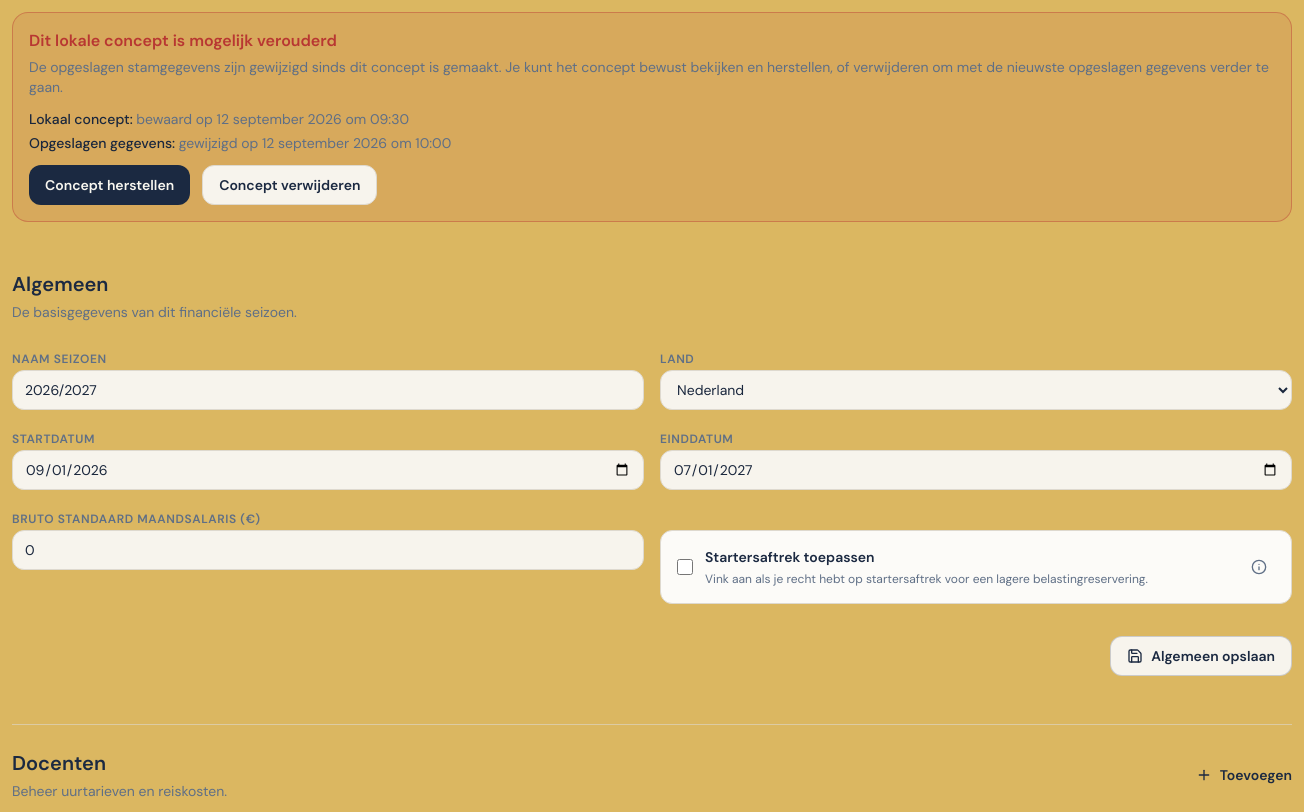
Scenario: SeasonEditor local drafts › warns when the saved season changed after the local draft was created
Expected: the message with test id "season-draft-notice" shows "Dit lokale concept is mogelijk verouderd", top-left (29, 30), bottom-right (337, 51)
Expected: the message with test id "season-draft-notice" shows "De opgeslagen stamgegevens zijn gewijzigd sinds dit concept is gemaakt.", top-left (29, 58), bottom-right (1269, 96)
Click the button "Concept herstellen": (110, 185) top-left (29, 165), bottom-right (190, 205)
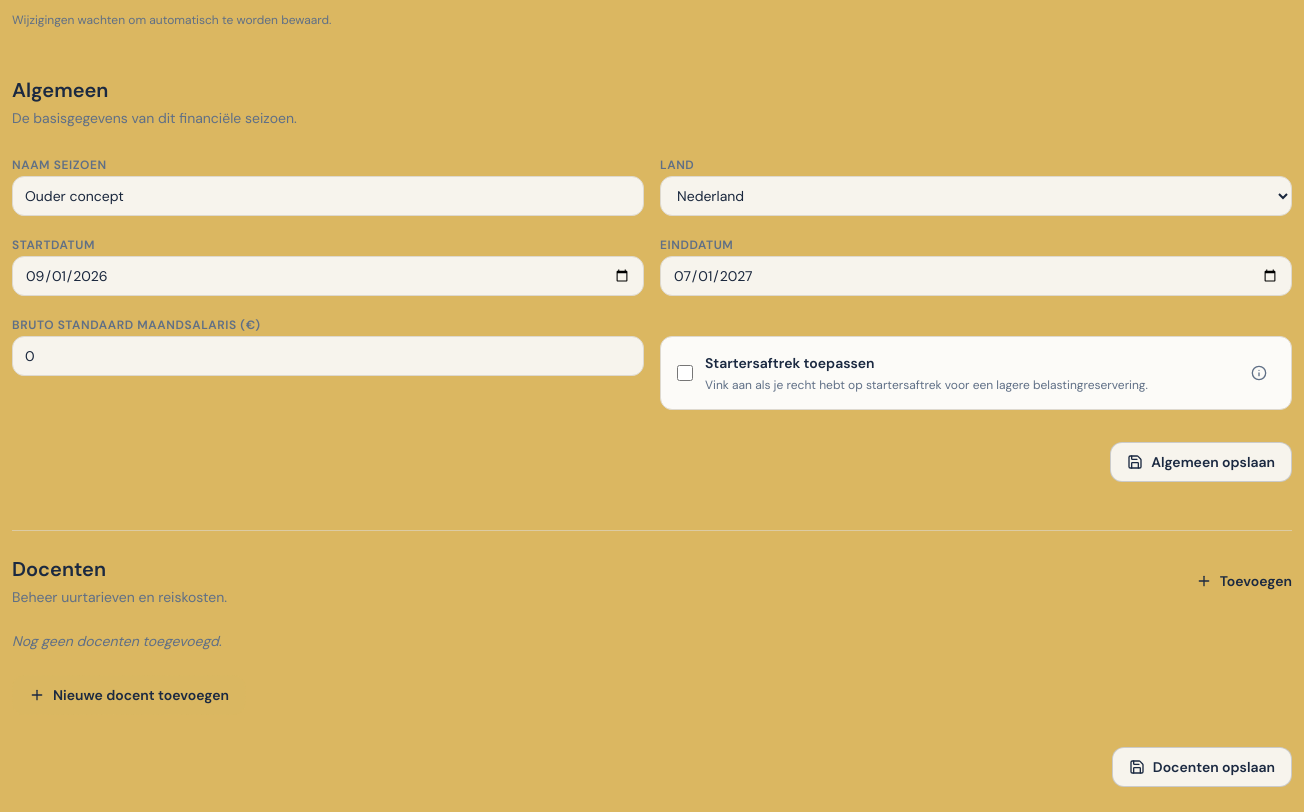
Expected: the field labelled "Naam seizoen" holds "Ouder concept", top-left (12, 176), bottom-right (644, 216)
